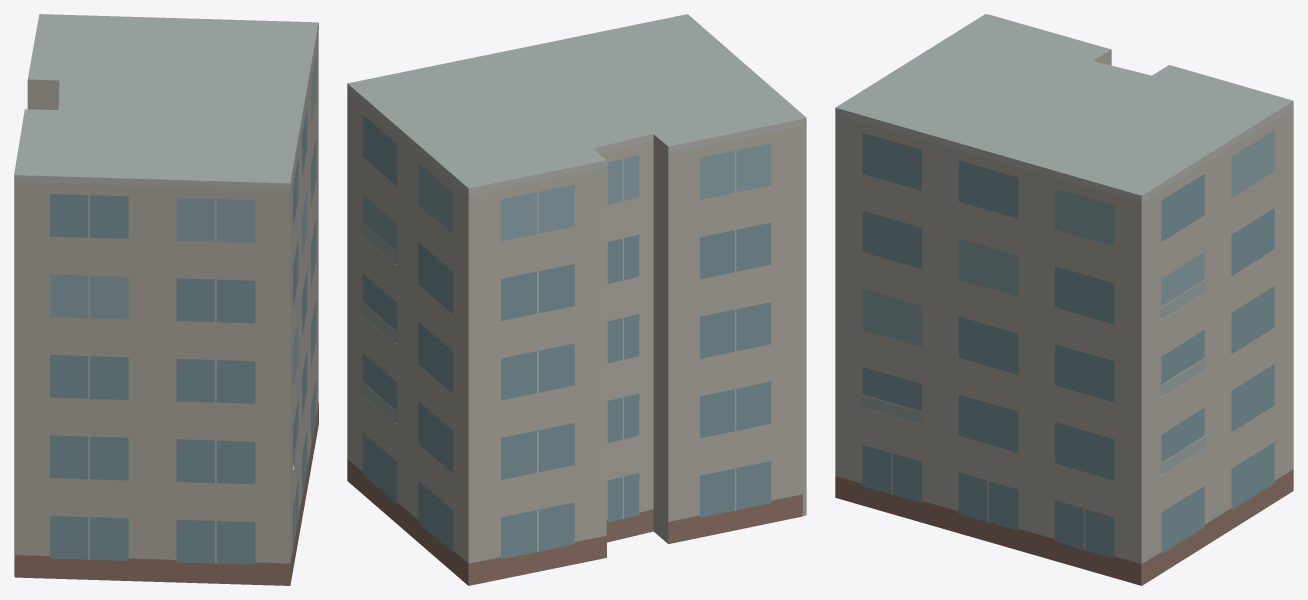
File: survey-upis-33042227.glb
The picture shows the model from 3 angles, left to right: view 1: azimuth 30°, elevation 25°; view 2: azimuth 150°, elevation 25°; view 3: azimuth 270°, elevation 25°; orthographic projection. The views are drawn at different scales.
Visible parts, largest first — view 1: survey-upis-33042227.tmp; view 2: survey-upis-33042227.tmp; view 3: survey-upis-33042227.tmp.
Part boxes in pixels (<box>): survey-upis-33042227.tmp: <box>14,14,318,585</box>; survey-upis-33042227.tmp: <box>347,14,806,585</box>; survey-upis-33042227.tmp: <box>835,14,1293,585</box>.
Size of the model in its own units: 14.2 by 14.2 by 15.13.
